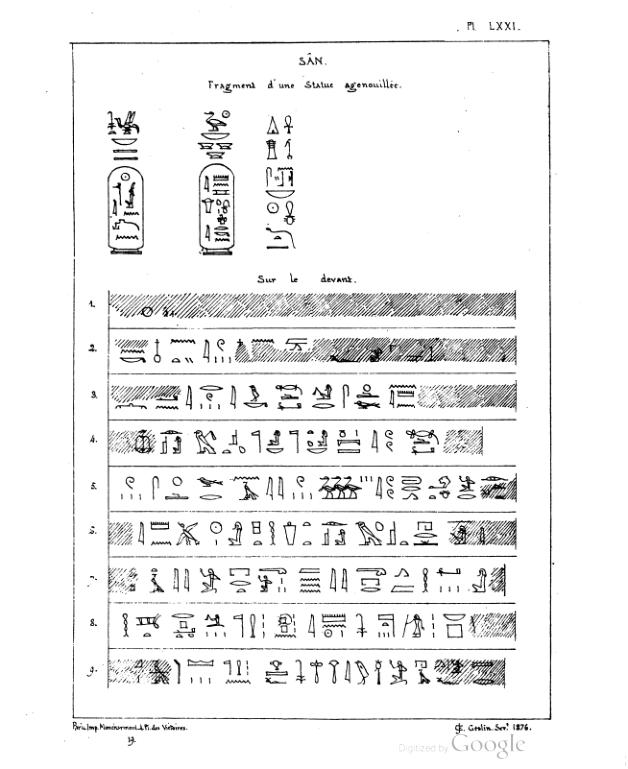circle: (193, 159, 241, 260), (102, 164, 150, 257)
